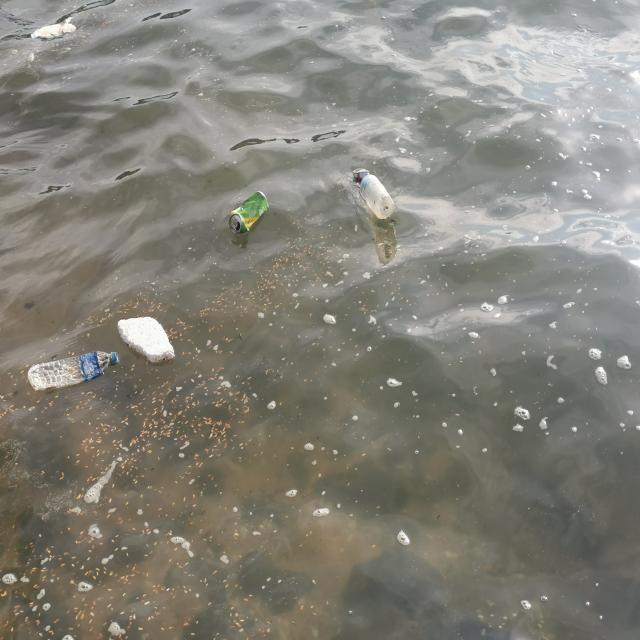can: (229, 190, 268, 237), (359, 175, 396, 220)
foam: (117, 315, 175, 363), (32, 23, 78, 43)
plastic: (27, 350, 117, 396)
